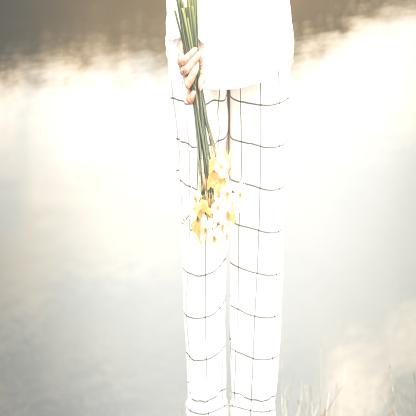dress: (164, 3, 297, 416)
